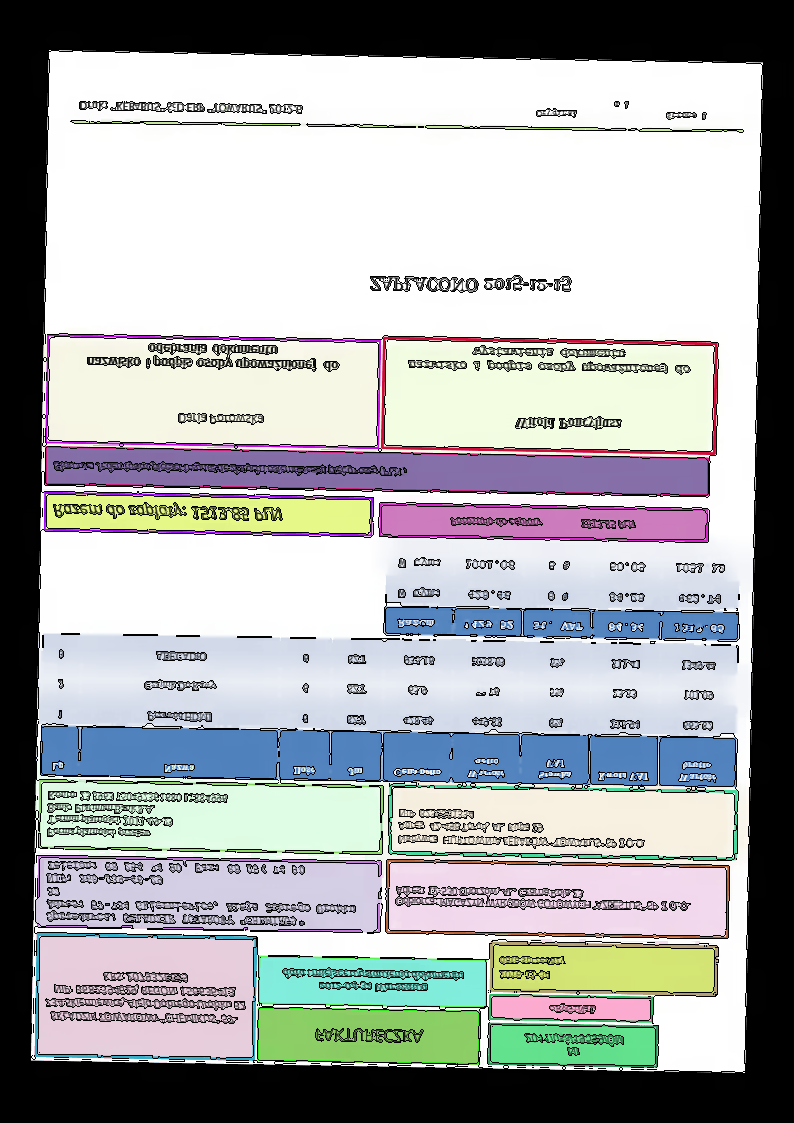Table: (39, 631, 739, 789), (381, 544, 742, 642)
TextBox: (43, 859, 359, 931), (42, 967, 248, 1028), (396, 808, 647, 851), (43, 789, 230, 844), (404, 343, 691, 377), (50, 456, 408, 483), (394, 883, 693, 914), (83, 340, 341, 373), (49, 502, 284, 528), (366, 270, 573, 297), (280, 966, 467, 995), (75, 97, 307, 120), (534, 98, 711, 122), (446, 515, 637, 533), (521, 1030, 626, 1061), (311, 1024, 427, 1047), (512, 414, 625, 434), (497, 953, 567, 983), (174, 410, 267, 431), (546, 1003, 599, 1017)
